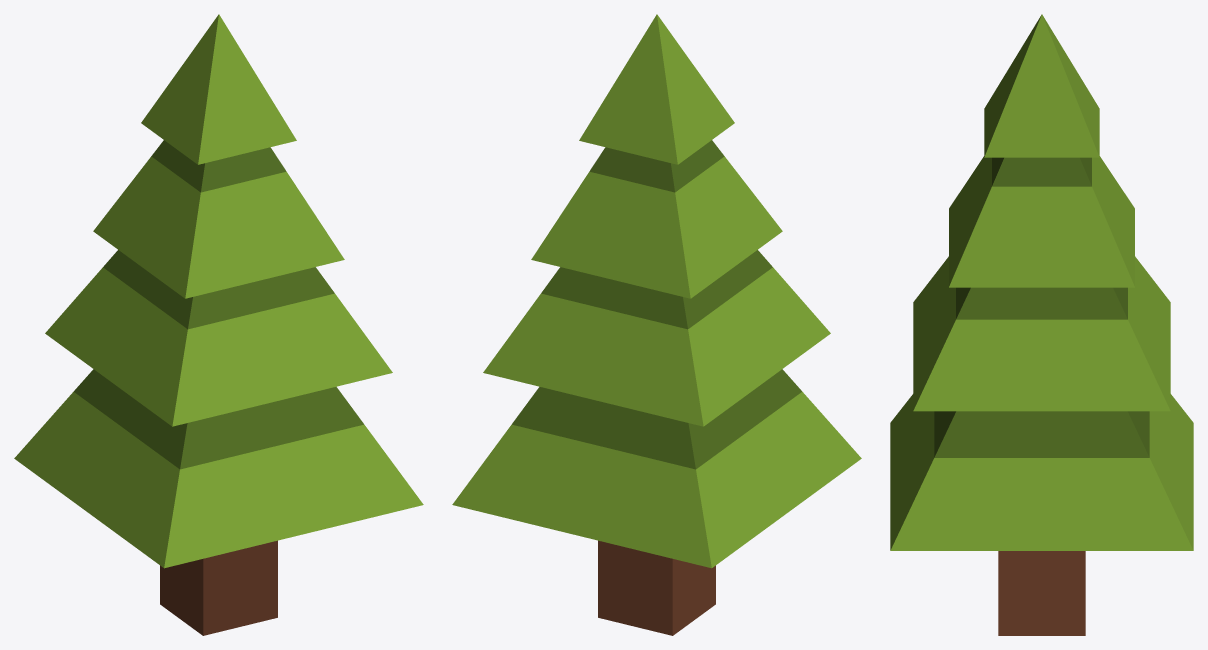
Rendered from tree_10.FBX.
3 views of the same model, side by side, from view 1: azimuth 30°, elevation 25°; view 2: azimuth 150°, elevation 25°; view 3: azimuth 270°, elevation 25° (orthographic).
Parts seen in each view (by area): view 1: tree_002; view 2: tree_002; view 3: tree_002.
Part boxes in pixels (x1,y1,x2,y2): tree_002: [14, 14, 423, 635]; tree_002: [452, 14, 861, 635]; tree_002: [890, 14, 1193, 635].
Size of the model in its own units: 401 by 881 by 401.
